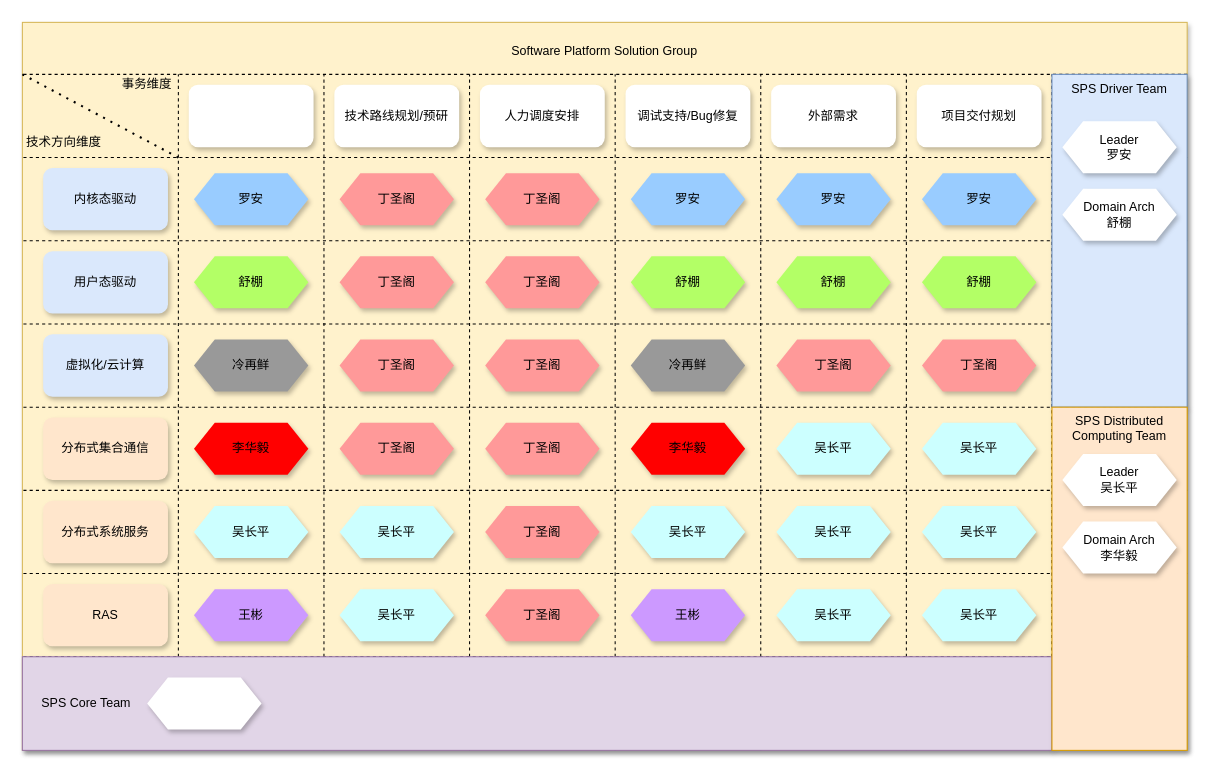
The diagram is 1212 pixels wide and 776 high, and some of its shapes have lost their labels. Here are the shapes that lost their labels. From the top down, the centre of each, then its label:
point (251, 117): 组件架构/功能设计
point (204, 704): Leader 丁圣阁
